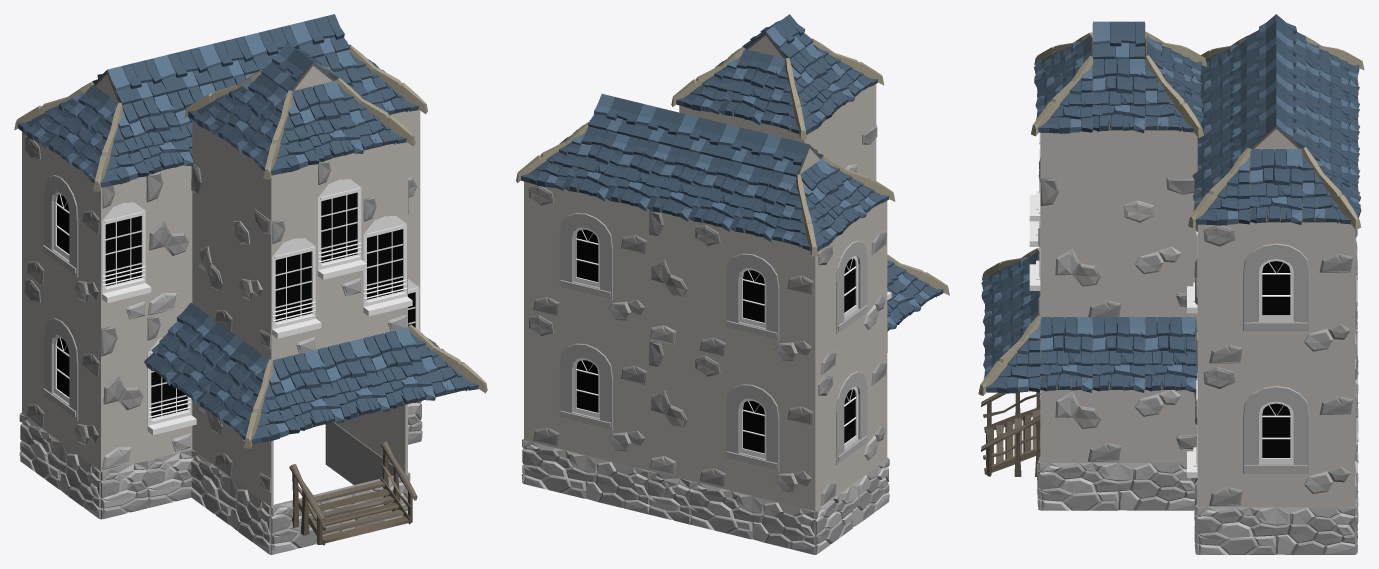
File: HOUSE_6_PARTS.fbx
3 views of the same model, side by side, from view 1: azimuth 30°, elevation 25°; view 2: azimuth 150°, elevation 25°; view 3: azimuth 270°, elevation 25° (orthographic). The views are drawn at different scales.
Parts seen in each view (by area): view 1: WINDOW_07_10, WALL_05_3, WINDOW_07_11, WINDOW_01_10, WALL_03_3, WALL_03_2, WINDOW_01_14, WINDOW_01_9, WINDOW_01_11, STAIRS_01_2, WINDOW_01_15, WALL_05_2 (+42 smaller); view 2: WINDOW_07_12, WINDOW_07_15, WINDOW_07_14, WINDOW_07_13, WINDOW_07_10, WINDOW_07_11, FOUNDATION_01_7, FOUNDATION_01_6, WALL_03_4, WALL_03_5, FOUNDATION_01_8, ROOF_base_13 (+26 smaller); view 3: WINDOW_07_16, WINDOW_07_17, WALL_05_4, WALL_05_5, FOUNDATION_01_5, FOUNDATION_01_4, ROOF_base_23, ROOF_base_9, ROOF_base_8, ROOF_base_12, ROOF_base_10, STAIRS_01_2 (+43 smaller).
Boxes of the visible parts, left/top/right/bottom form: WINDOW_07_10: left=22, top=271, right=103, bottom=471; WALL_05_3: left=191, top=164, right=272, bottom=359; WINDOW_07_11: left=22, top=132, right=103, bottom=328; WINDOW_01_10: left=316, top=153, right=366, bottom=304; WALL_03_3: left=146, top=165, right=192, bottom=317; WALL_03_2: left=101, top=317, right=146, bottom=471; WINDOW_01_14: left=101, top=176, right=151, bottom=327; WINDOW_01_9: left=271, top=210, right=321, bottom=359; WINDOW_01_11: left=362, top=187, right=412, bottom=339; STAIRS_01_2: left=289, top=441, right=417, bottom=545; WINDOW_01_15: left=146, top=308, right=196, bottom=460; WALL_05_2: left=192, top=401, right=273, bottom=506; WINDOW_07_12: left=690, top=350, right=816, bottom=510; WINDOW_07_15: left=524, top=309, right=648, bottom=470; WINDOW_07_14: left=524, top=181, right=648, bottom=339; WINDOW_07_13: left=690, top=220, right=815, bottom=379; WINDOW_07_10: left=813, top=328, right=887, bottom=511; WINDOW_07_11: left=813, top=201, right=887, bottom=380; FOUNDATION_01_7: left=689, top=481, right=816, bottom=554; FOUNDATION_01_6: left=522, top=440, right=649, bottom=514; WALL_03_4: left=649, top=340, right=690, bottom=480; WALL_03_5: left=649, top=209, right=690, bottom=350; FOUNDATION_01_8: left=812, top=458, right=889, bottom=554; ROOF_base_13: left=719, top=49, right=785, bottom=125; WINDOW_07_16: left=1197, top=364, right=1354, bottom=507; WINDOW_07_17: left=1197, top=222, right=1354, bottom=364; WALL_05_4: left=1040, top=178, right=1197, bottom=318; WALL_05_5: left=1040, top=390, right=1197, bottom=462; FOUNDATION_01_5: left=1197, top=507, right=1354, bottom=554; FOUNDATION_01_4: left=1040, top=463, right=1195, bottom=510; ROOF_base_23: left=1249, top=149, right=1302, bottom=224; ROOF_base_9: left=1092, top=317, right=1145, bottom=392; ROOF_base_8: left=1040, top=317, right=1092, bottom=392; ROOF_base_12: left=1092, top=58, right=1145, bottom=133; ROOF_base_10: left=1144, top=317, right=1197, bottom=392; STAIRS_01_2: left=981, top=390, right=1040, bottom=476.
Bounding box in the file's own units: 737 × 959 × 737.
